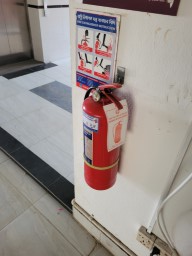fire_extinguisher: (62, 86, 143, 146)
